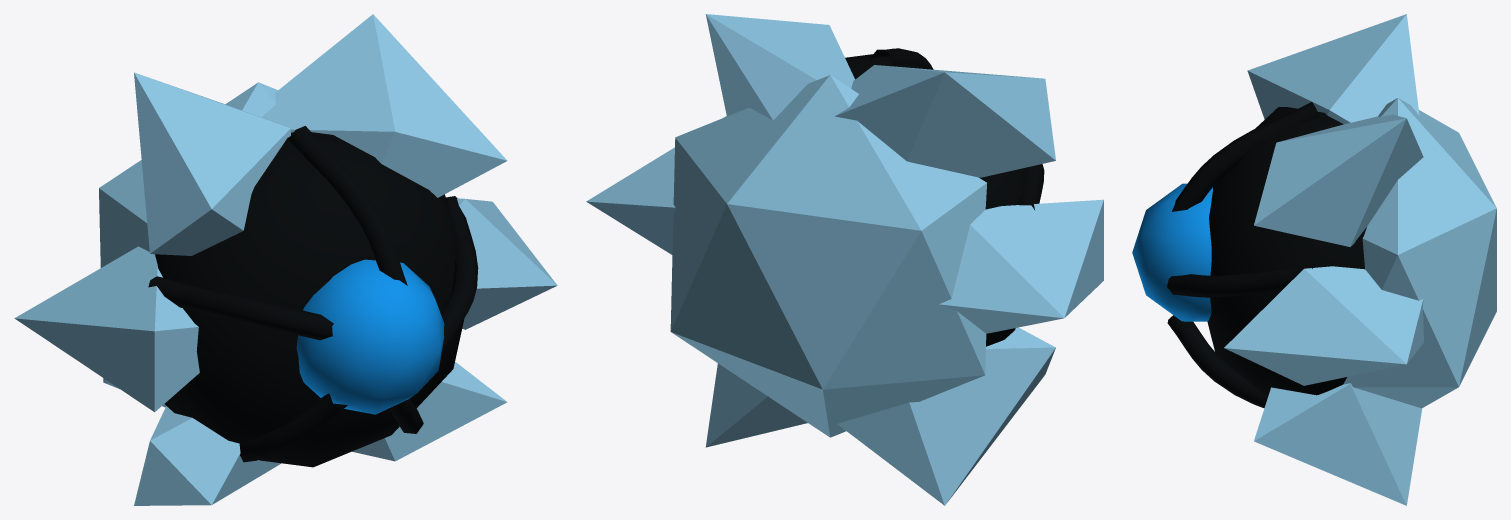
File: ArmoredEnemy.obj
3 renders of one model, left to right at view 1: azimuth 30°, elevation 25°; view 2: azimuth 150°, elevation 25°; view 3: azimuth 270°, elevation 25°, orthographic. The views are drawn at different scales.
Visible parts, largest first — view 1: ArmoredEnemy; view 2: ArmoredEnemy; view 3: ArmoredEnemy.
Boxes of the visible parts, x1,y1,x2,y2 form: ArmoredEnemy: (14, 14, 557, 505); ArmoredEnemy: (586, 14, 1103, 505); ArmoredEnemy: (1132, 14, 1496, 505).
Size of the model in its own units: 2.54 by 2.2 by 1.87.
Materials: 3 (3 with a texture image).
